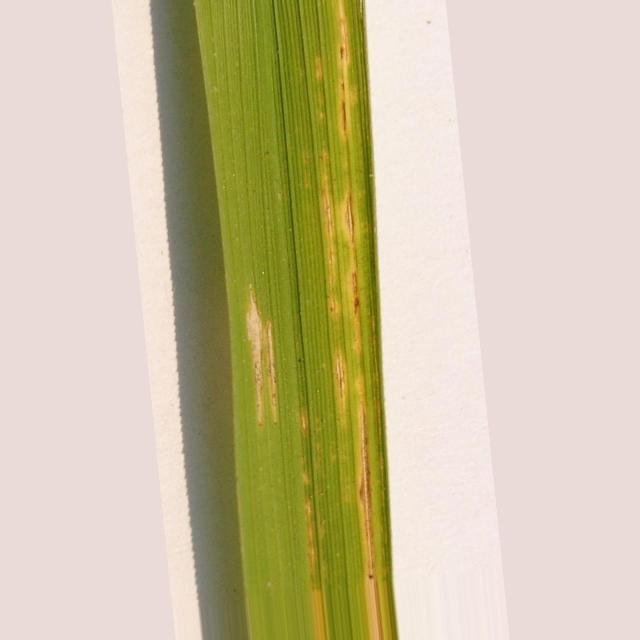Bacterial_Leaf_Blight: (246, 285, 279, 426)
